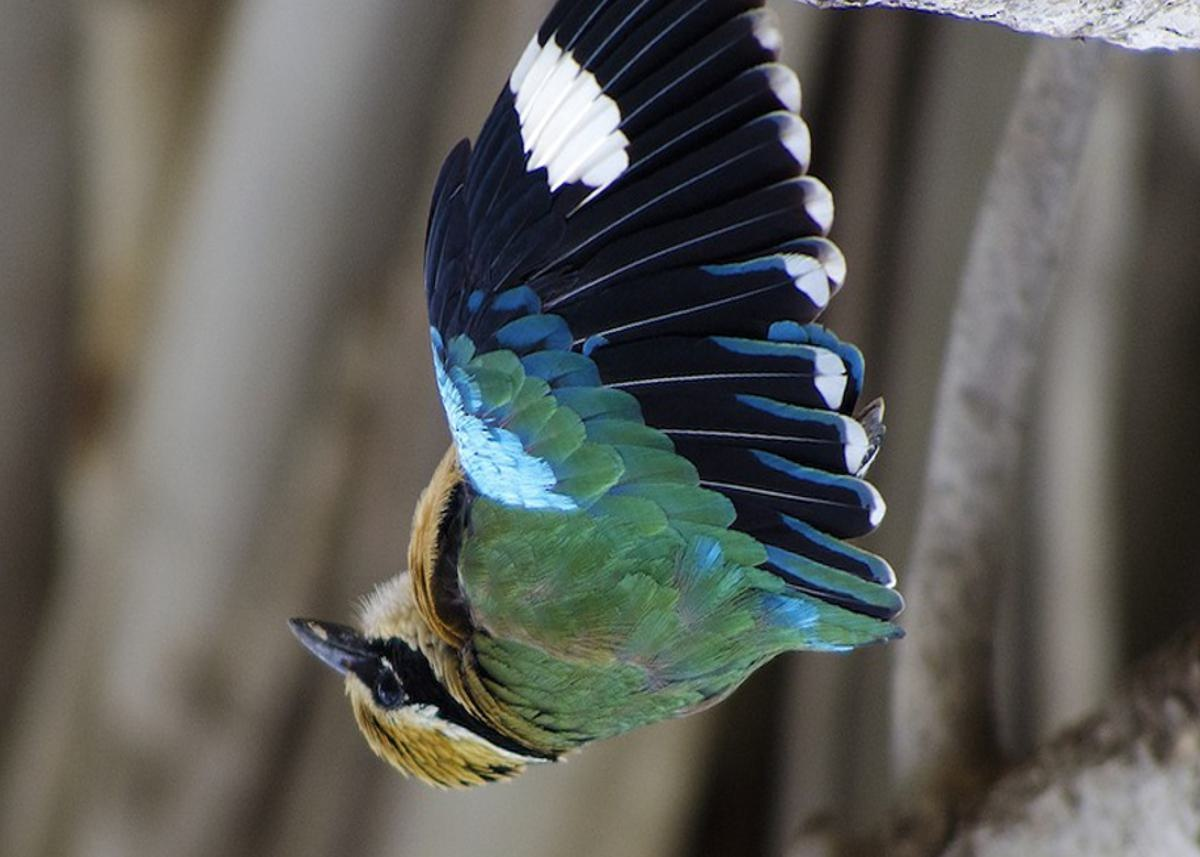pitta: (273, 40, 863, 804)
